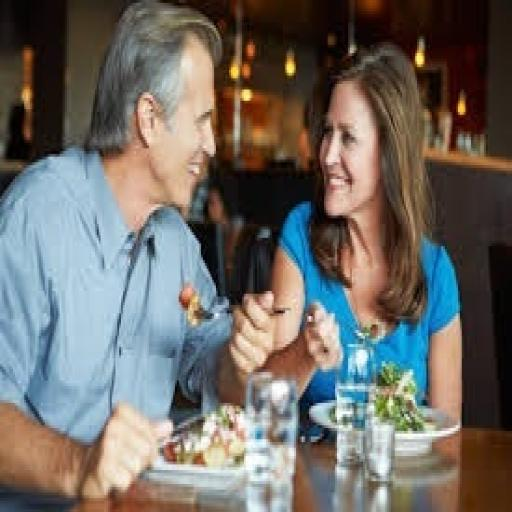eating: (0, 0, 465, 506)
